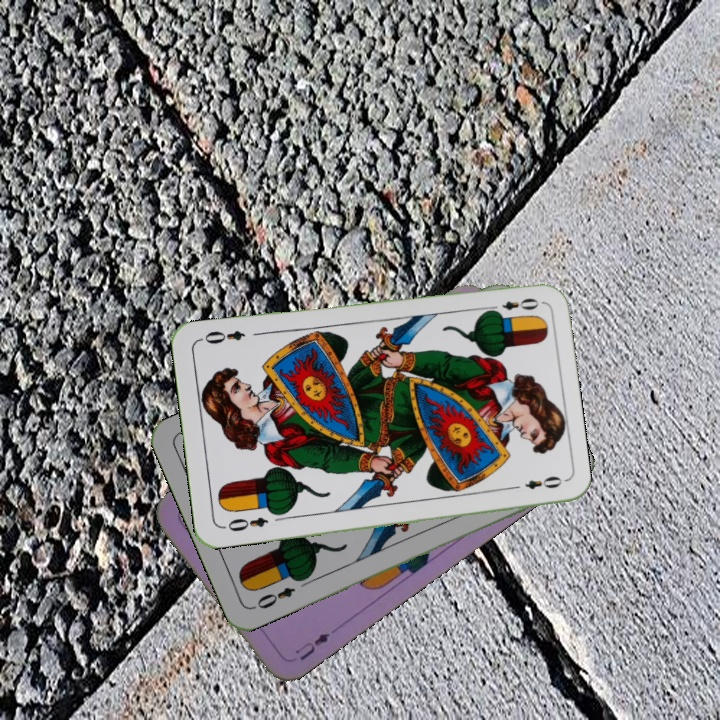EO: (484, 293, 542, 317), (252, 583, 298, 612), (219, 513, 271, 534)
EU: (291, 628, 333, 664)
